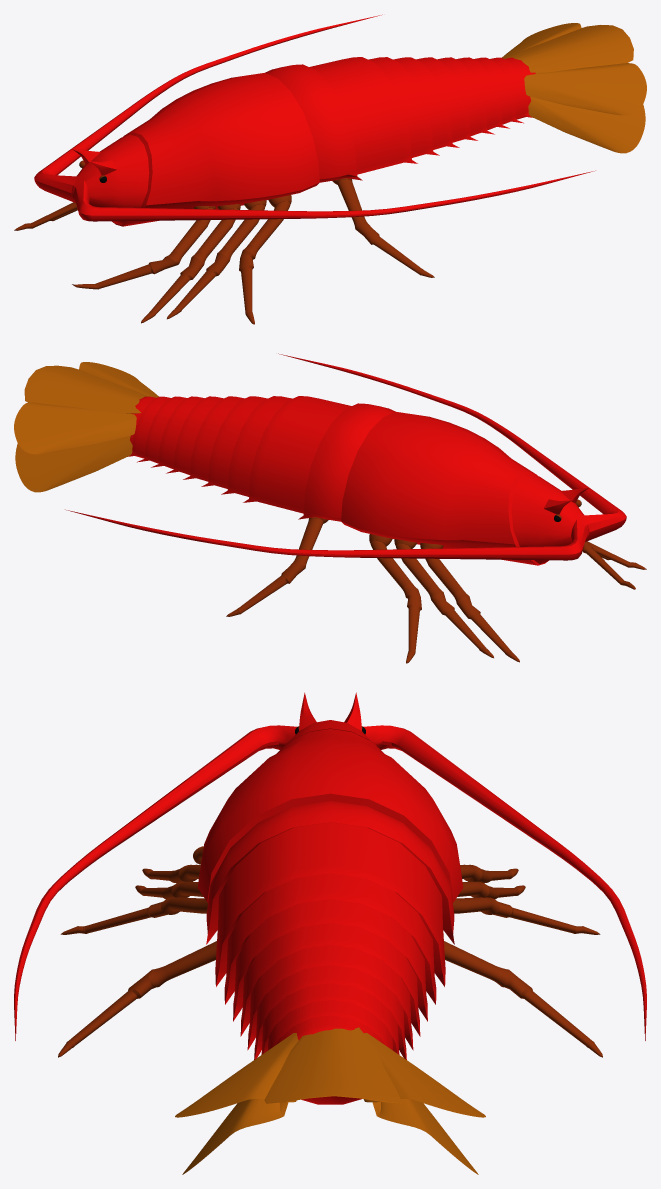
Rendered from spiny_lobster.fbx.
The picture shows the model from 3 angles, top to bottom: view 1: azimuth 30°, elevation 25°; view 2: azimuth 150°, elevation 25°; view 3: azimuth 270°, elevation 25°; orthographic projection. The views are drawn at different scales.
Visible parts, largest first — view 1: mainbody, lefttail1, middletail, lefttail2, leftleg2, leftleg3, leftleg1, leftleg4, leftbackleg; view 2: mainbody, lefttail1, middletail, lefttail2, leftleg2, leftleg3, leftleg4, leftbackleg, leftleg1; view 3: mainbody, middletail, lefttail1, leftbackleg, lefttail2, leftleg4, leftleg3, leftleg2.
Boxes of the visible parts, box(x1,y1,x2,y2) form: mainbody: box(34, 14, 595, 226); lefttail1: box(502, 23, 646, 115); middletail: box(504, 25, 633, 72); lefttail2: box(528, 96, 645, 153); leftleg2: box(14, 202, 240, 323); leftleg3: box(50, 200, 266, 319); leftleg1: box(72, 206, 215, 289); leftleg4: box(239, 195, 291, 324); leftbackleg: box(332, 178, 434, 277); mainbody: box(65, 353, 626, 565); lefttail1: box(14, 362, 158, 454); middletail: box(24, 365, 147, 413); lefttail2: box(15, 435, 132, 492); leftleg2: box(420, 541, 646, 662); leftleg3: box(394, 539, 610, 658); leftleg4: box(369, 534, 421, 663); leftbackleg: box(226, 517, 328, 616); leftleg1: box(582, 541, 635, 589); mainbody: box(14, 692, 646, 1104); middletail: box(264, 1027, 404, 1103); lefttail1: box(175, 1033, 485, 1117); leftbackleg: box(58, 941, 602, 1057); lefttail2: box(182, 1099, 478, 1174); leftleg4: box(60, 897, 600, 934); leftleg3: box(135, 881, 525, 899); leftleg2: box(142, 864, 518, 883).
Size of the model in its own units: 4.19 by 1.06 by 2.7.
